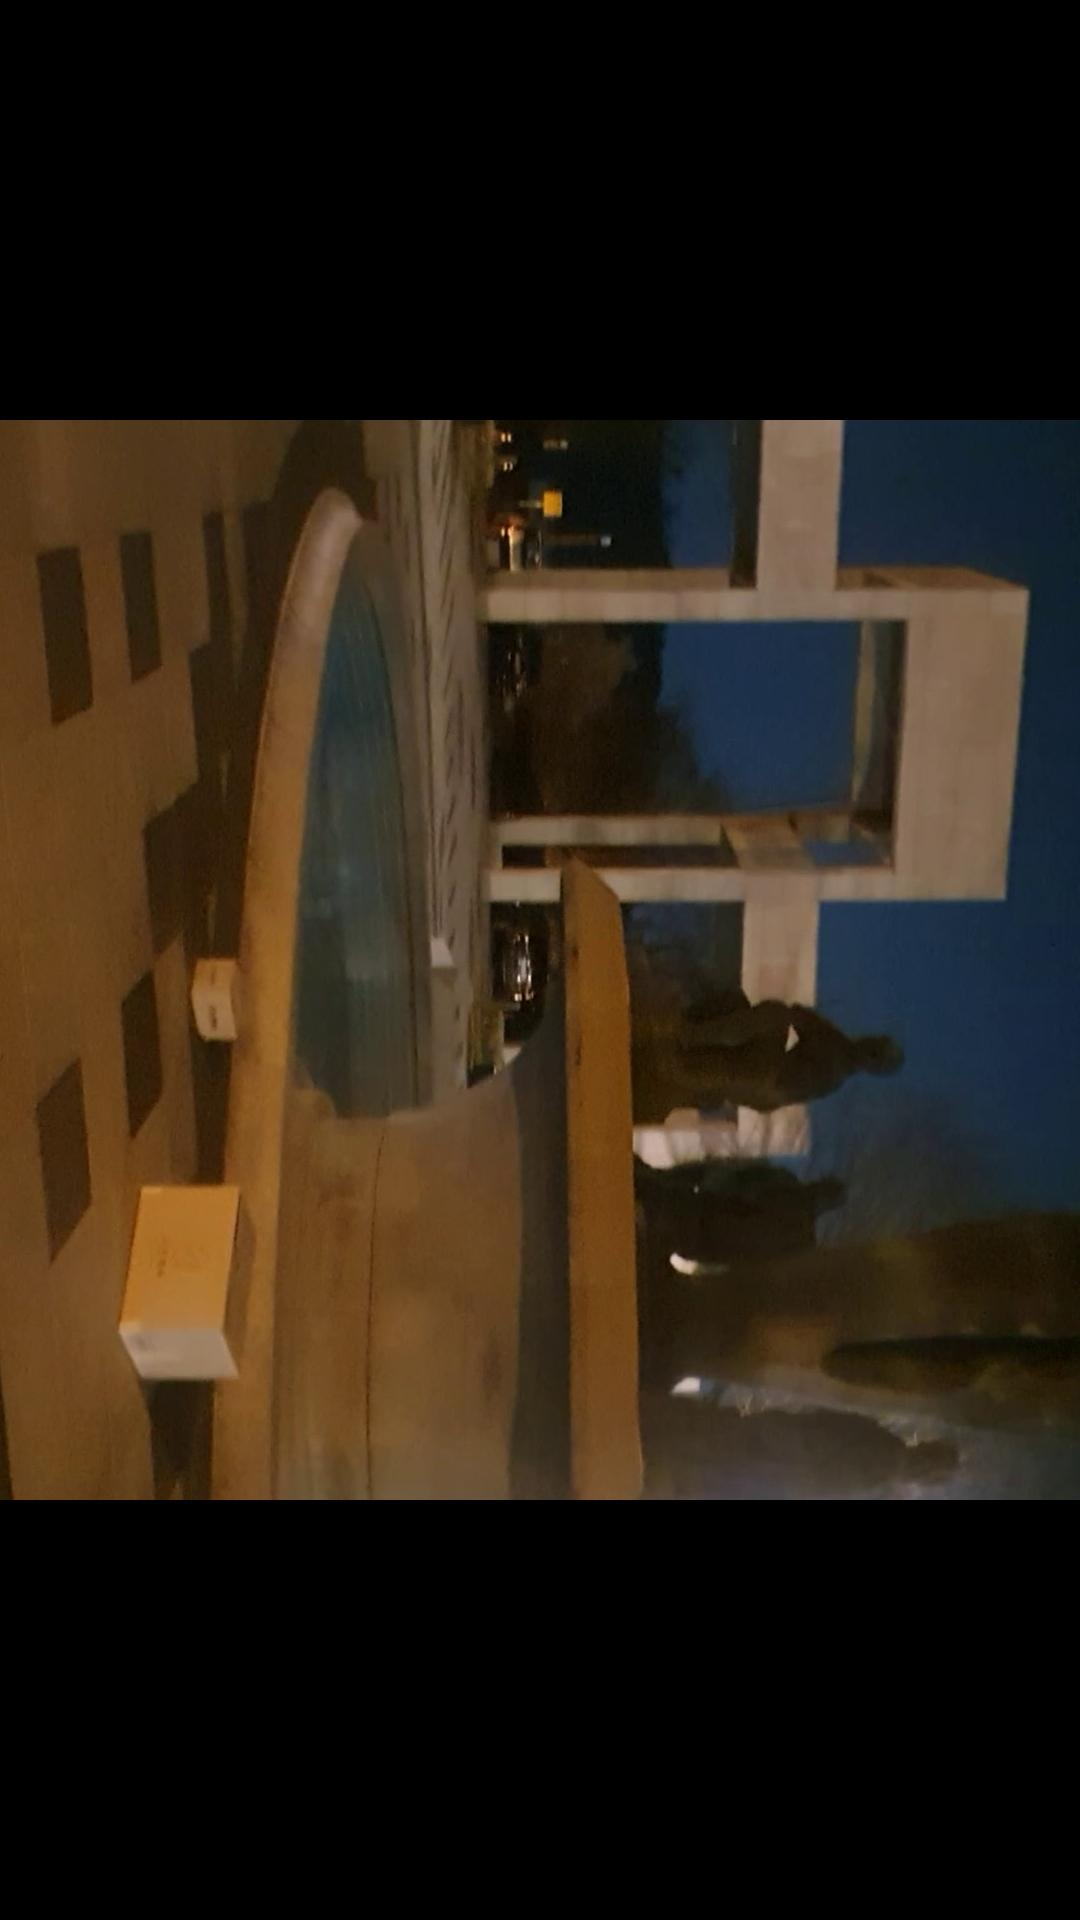Box: (115, 1168, 265, 1393), (185, 953, 255, 1044)
